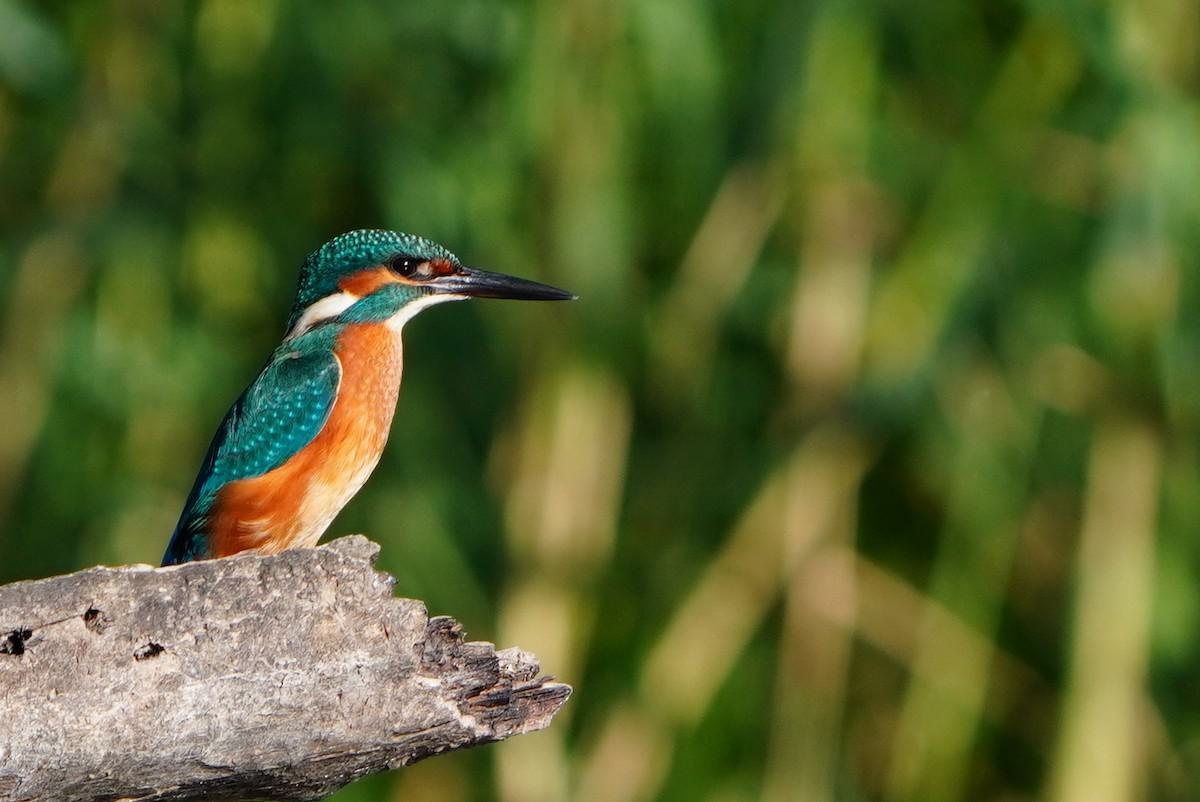kingfisher: (181, 226, 581, 605)
